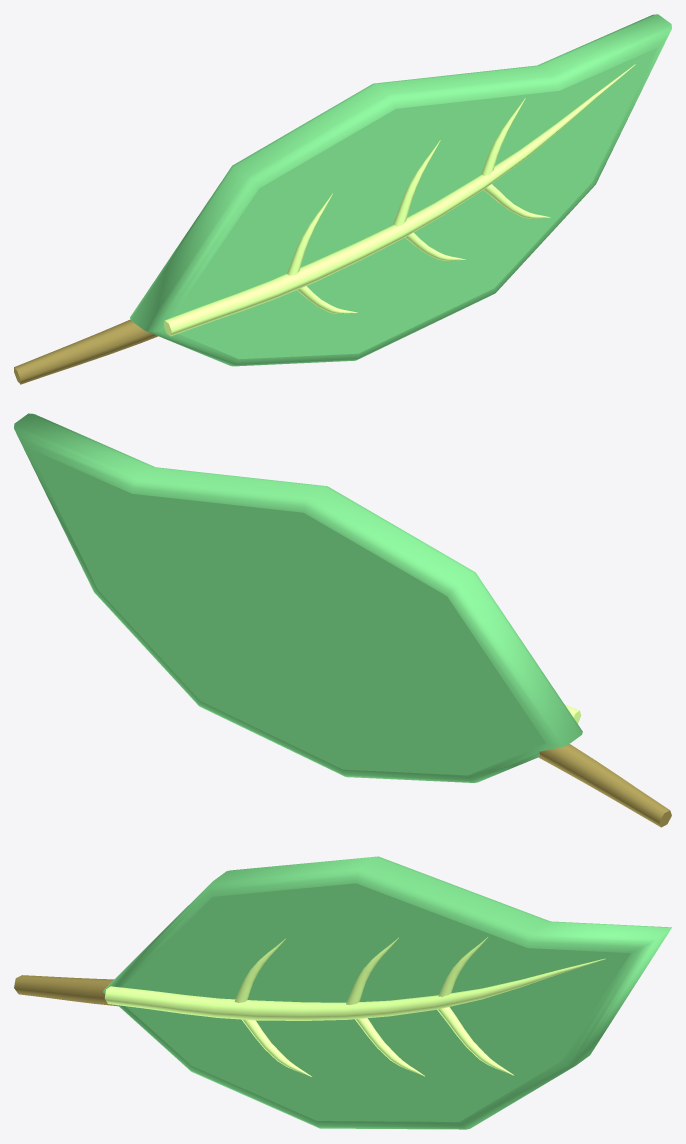
Rendered from leaf_whistle.glb.
3 views of the same model, one above another, from view 1: azimuth 30°, elevation 25°; view 2: azimuth 150°, elevation 25°; view 3: azimuth 330°, elevation 25° (orthographic). The views are drawn at different scales.
Parts seen in each view (by area): view 1: Leaf Whistle; view 2: Leaf Whistle; view 3: Leaf Whistle.
Part boxes in pixels (x1,y1,x2,y2): Leaf Whistle: (14, 14, 671, 384); Leaf Whistle: (14, 413, 671, 827); Leaf Whistle: (14, 856, 671, 1129).
Size of the model in its own units: 1 by 0.3897 by 0.118.
